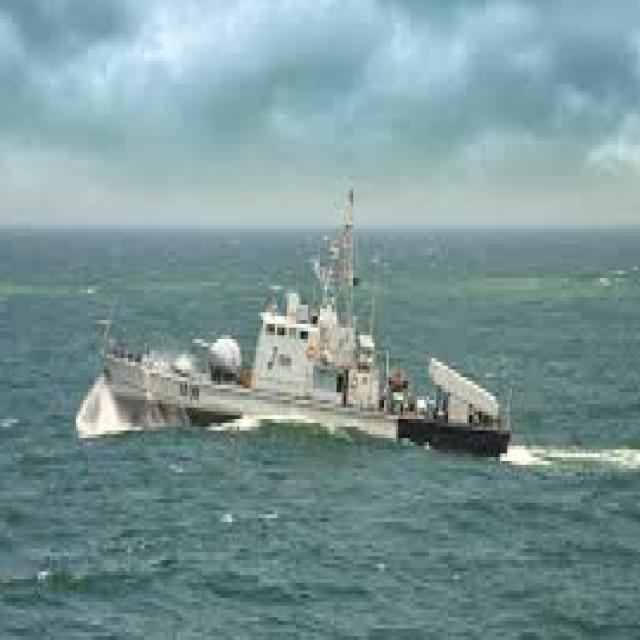navalvessels: (78, 208, 513, 451)
